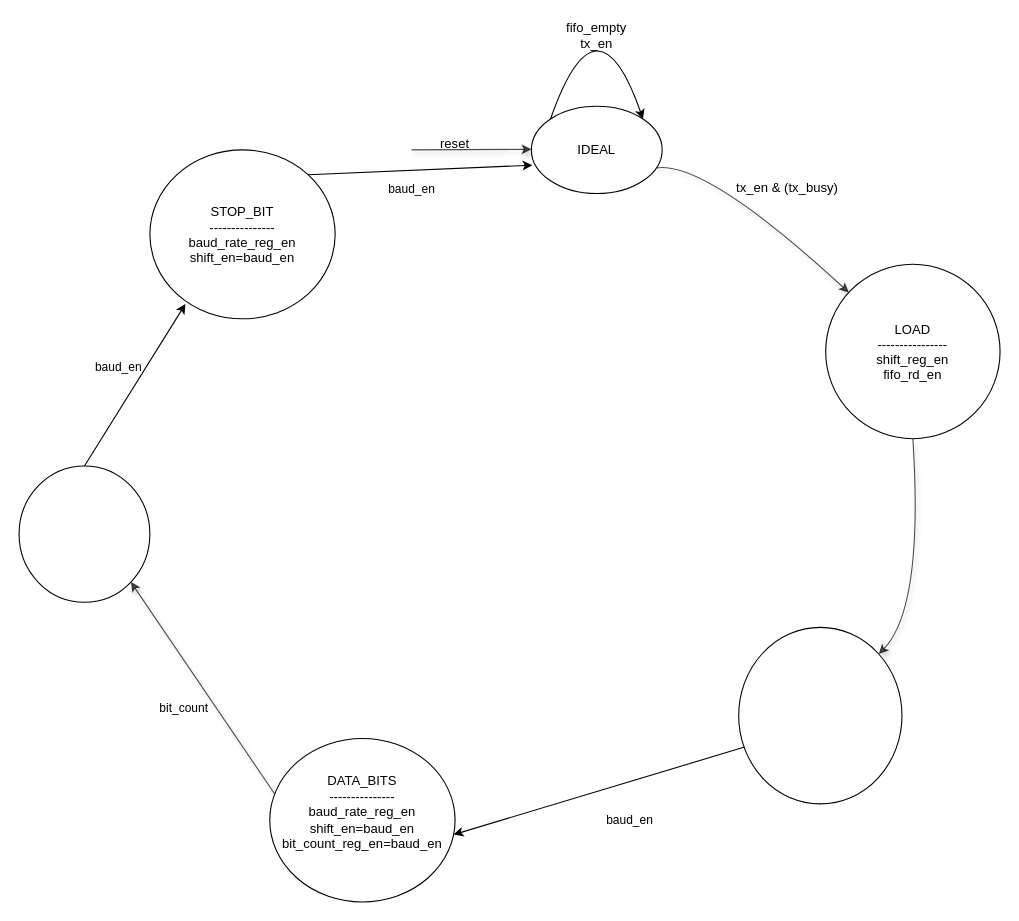
The diagram is 1019 pixels wide and 921 high, and some of its shapes have lost their labels. Each missing label, with the centre of its shape:
PARITY --------------- baud_rate_reg_en shift_en=baud_en: point 84,533
START-BIT --------------- baud_rate_reg_en shift_en=baud_en: point 820,715
